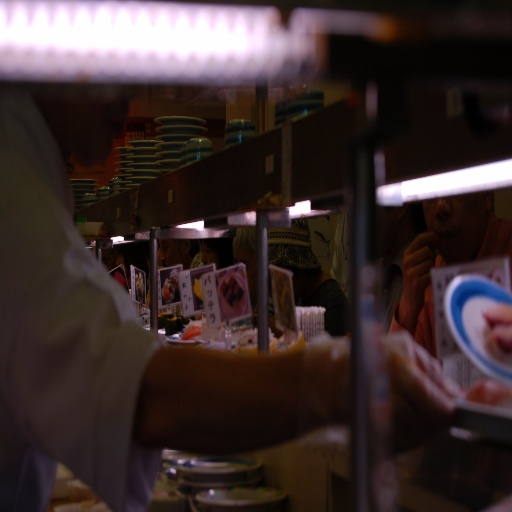hand: (351, 331, 467, 432), (405, 234, 444, 322), (484, 304, 511, 351)
